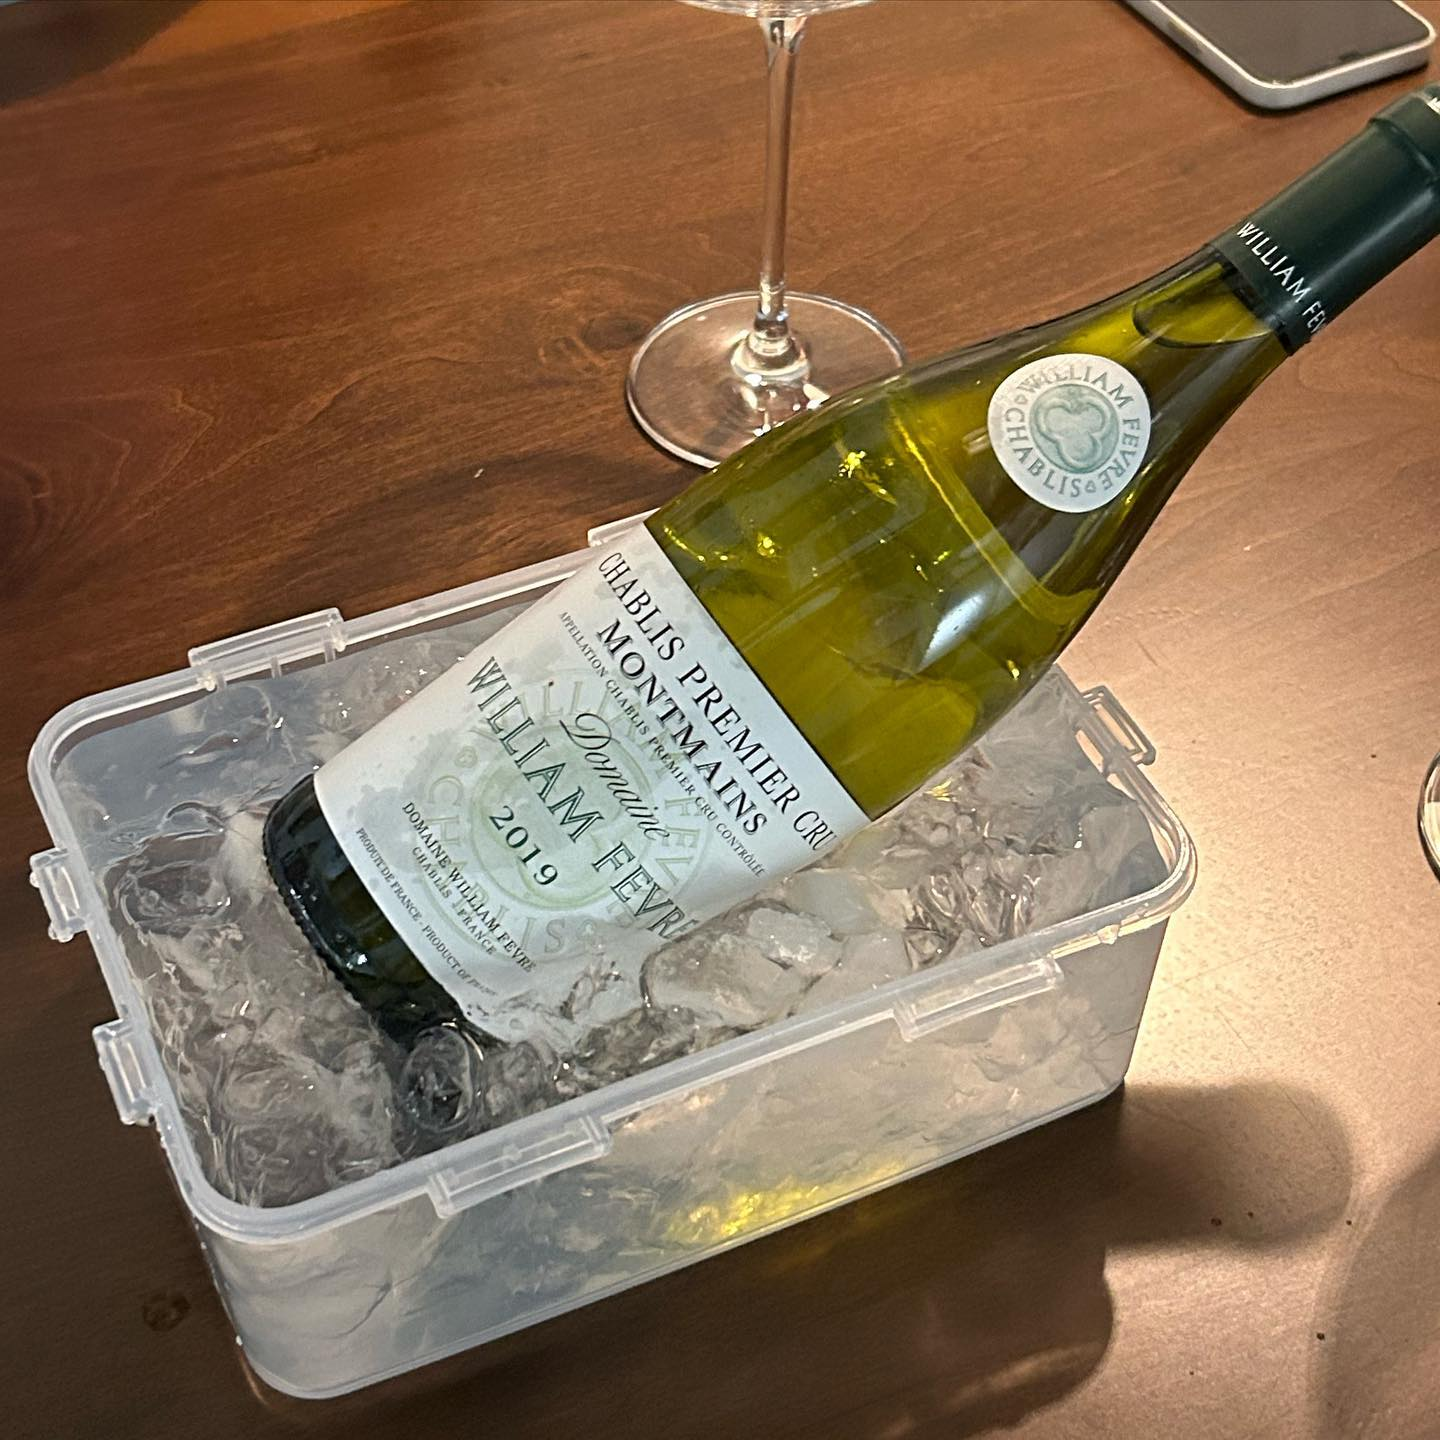alcohol: (251, 69, 1440, 1076)
